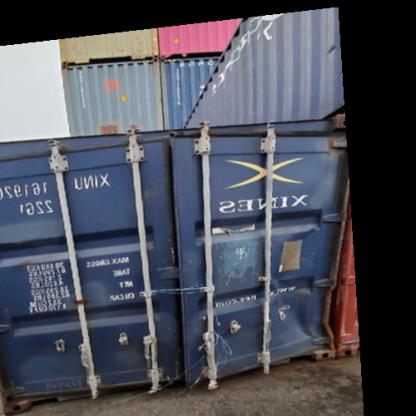Damage: (174, 304, 250, 383), (282, 279, 348, 354), (211, 235, 261, 292), (276, 215, 330, 256)
